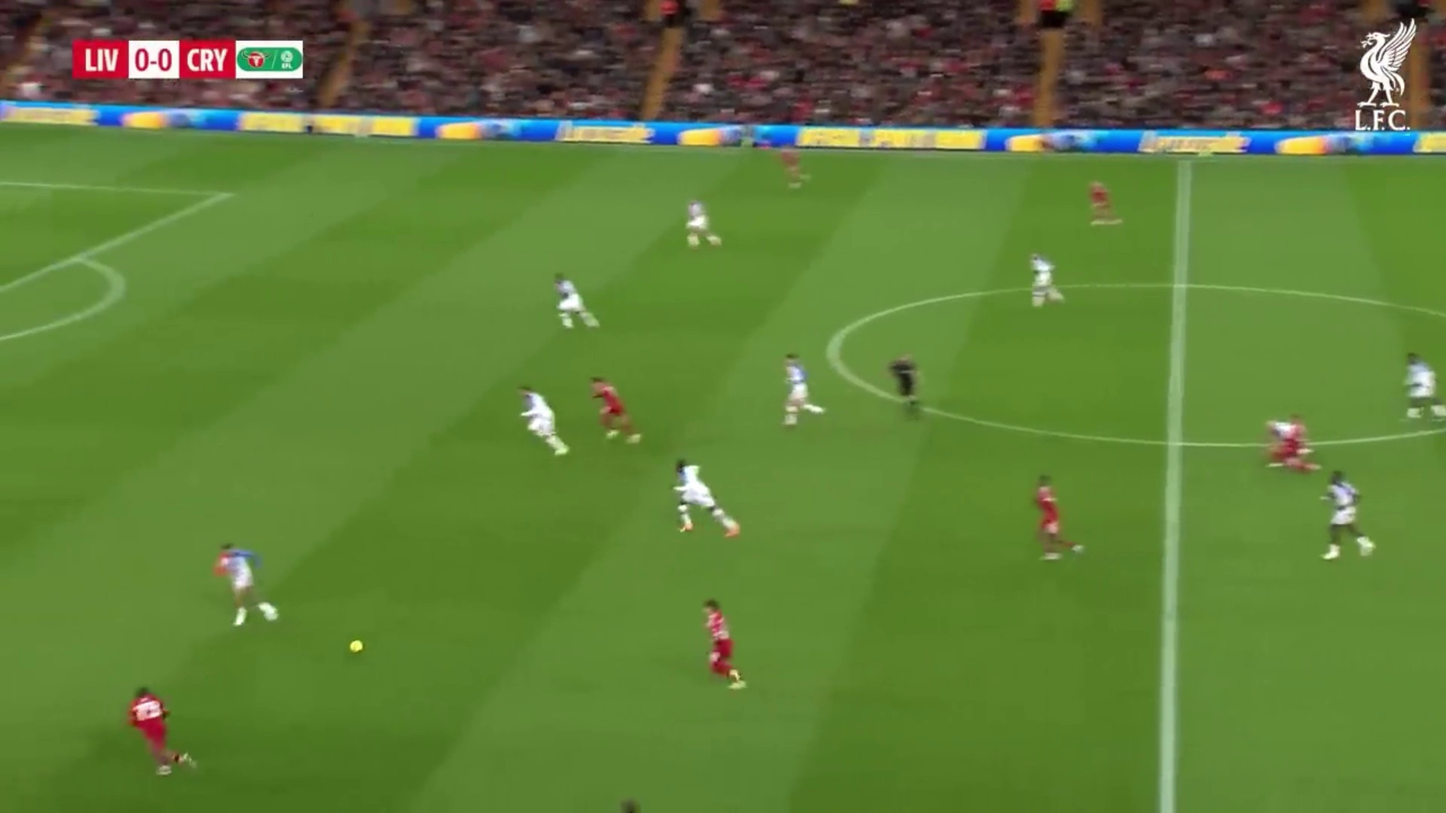player: (673, 460, 741, 539), (126, 688, 186, 775), (1322, 473, 1375, 562), (1033, 477, 1086, 561), (516, 390, 571, 457), (213, 547, 258, 628), (586, 378, 640, 445), (705, 600, 746, 688), (781, 355, 824, 428), (1262, 416, 1316, 473), (553, 275, 601, 331), (1404, 354, 1441, 425), (888, 355, 923, 418), (1028, 252, 1067, 308), (683, 199, 725, 250)
